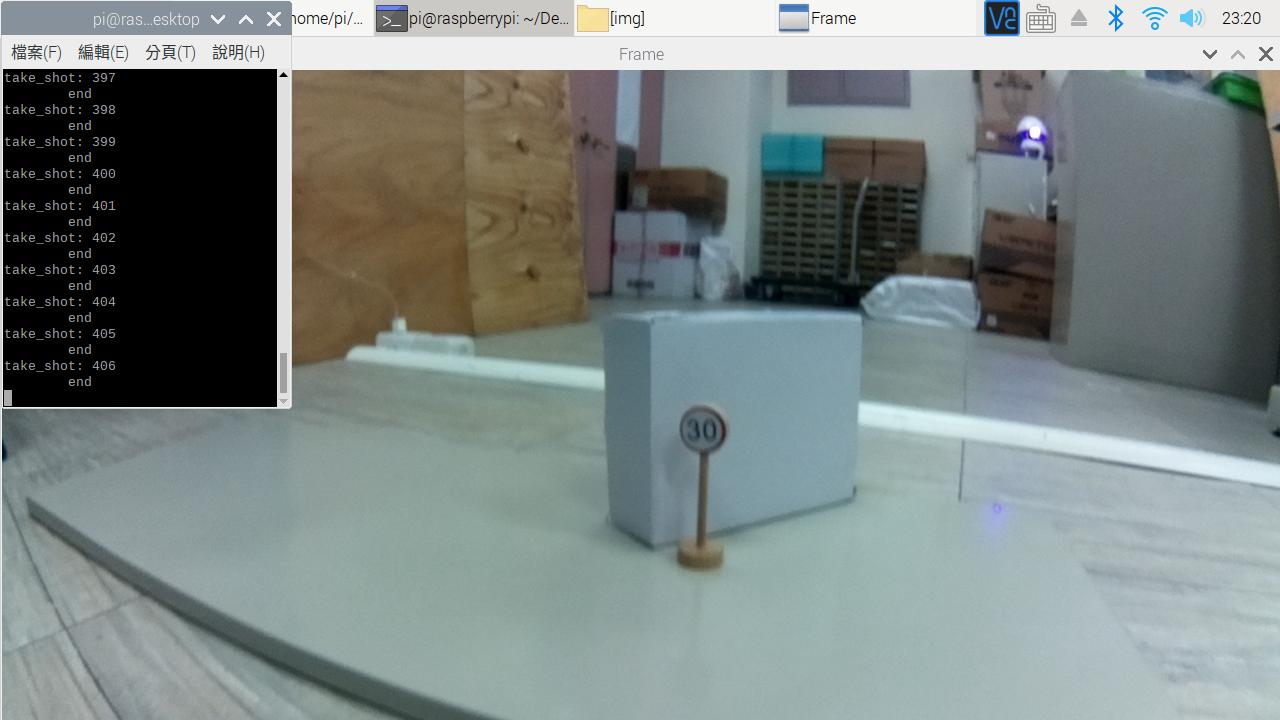Speed30: (665, 388, 757, 483)
